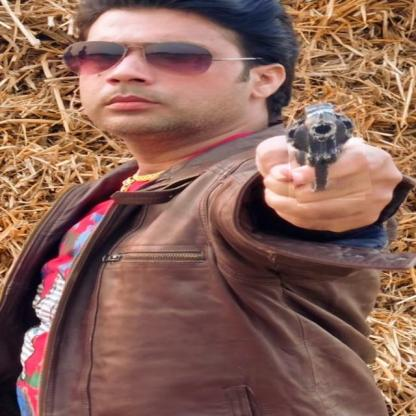handgun: (284, 97, 370, 203)
